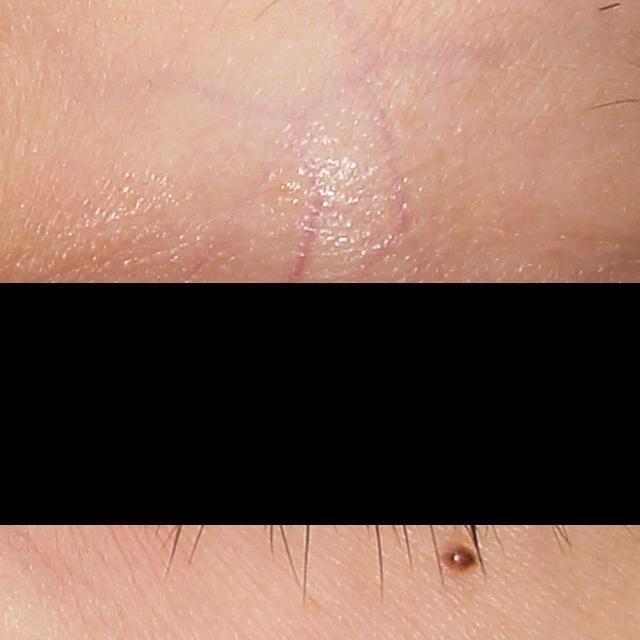nevus: (441, 542, 479, 572)
